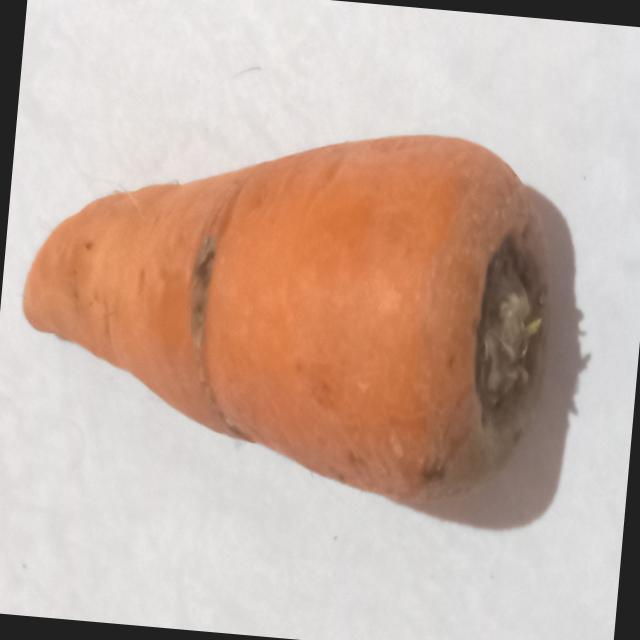carrot: (23, 136, 546, 502)
